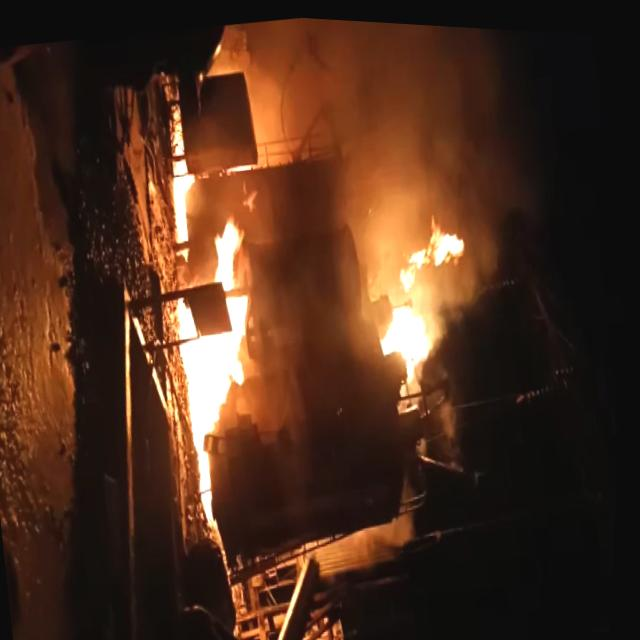helmet: (156, 208, 293, 528)
no_helmet: (173, 9, 579, 460)
